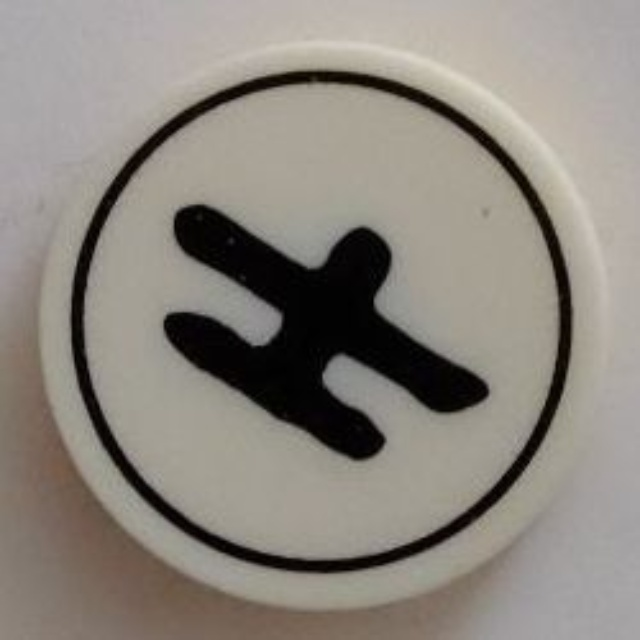black_si: (37, 41, 613, 614)
